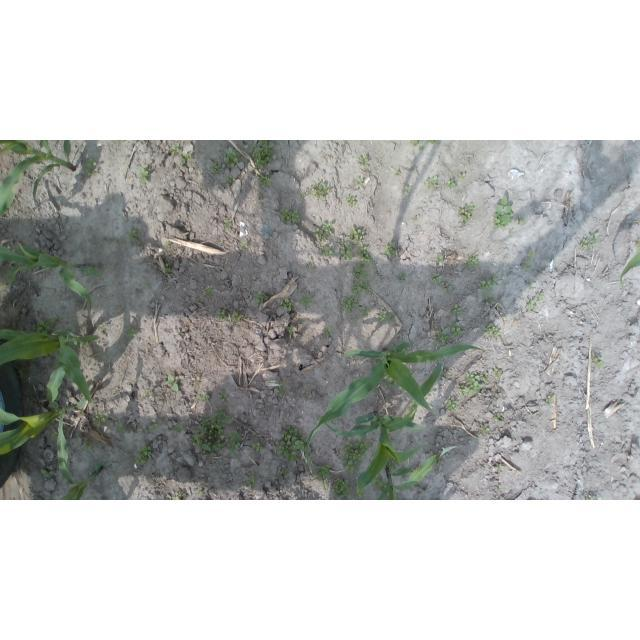Maize: (302, 342, 483, 477), (325, 361, 444, 500), (0, 327, 100, 407), (1, 238, 104, 314), (1, 140, 76, 220), (1, 399, 88, 455), (52, 406, 103, 500), (374, 445, 456, 500), (620, 250, 640, 291)
Weeds: (190, 408, 230, 452), (273, 426, 306, 463), (341, 437, 371, 476), (492, 196, 514, 231), (250, 140, 275, 169), (301, 181, 331, 200), (466, 372, 488, 395), (371, 474, 390, 499), (332, 477, 352, 500), (458, 202, 475, 226), (223, 148, 242, 169), (35, 316, 56, 334), (81, 157, 99, 178), (358, 246, 376, 266), (135, 445, 153, 465), (279, 208, 301, 224), (581, 232, 600, 250), (477, 275, 499, 290), (353, 281, 372, 298), (227, 432, 242, 453), (341, 296, 359, 313), (137, 164, 151, 185), (314, 464, 331, 481), (350, 225, 366, 243), (385, 240, 400, 258), (253, 290, 268, 308), (165, 374, 180, 392), (448, 321, 464, 337), (484, 323, 500, 339), (352, 265, 369, 280), (93, 411, 108, 428), (377, 311, 396, 324), (434, 329, 450, 344), (383, 373, 397, 389), (298, 293, 312, 309), (259, 173, 274, 187), (341, 244, 354, 260), (463, 255, 479, 268), (446, 395, 458, 412), (314, 228, 327, 243), (277, 468, 292, 481), (430, 272, 443, 286), (319, 246, 335, 257), (426, 176, 439, 189), (216, 308, 228, 322), (196, 391, 210, 403), (128, 227, 139, 242), (408, 140, 424, 150), (358, 154, 371, 166), (592, 354, 603, 368), (246, 474, 258, 486), (180, 152, 192, 164), (450, 304, 462, 316), (231, 311, 244, 322), (161, 263, 172, 276), (252, 442, 265, 453), (477, 425, 490, 436), (323, 221, 333, 235), (171, 490, 185, 500), (277, 381, 286, 396), (387, 458, 398, 470), (82, 442, 94, 453), (210, 163, 222, 174), (346, 195, 357, 207), (442, 282, 453, 294), (527, 299, 538, 311), (282, 298, 292, 311), (149, 420, 160, 431), (125, 327, 137, 337), (41, 470, 56, 478), (219, 390, 228, 403), (116, 423, 126, 434), (457, 385, 467, 396), (483, 293, 494, 303), (171, 143, 180, 155), (436, 254, 445, 266), (361, 306, 371, 316), (203, 287, 213, 297), (223, 219, 233, 229), (446, 178, 456, 188), (323, 328, 334, 337), (494, 368, 503, 379), (523, 262, 534, 271), (398, 271, 407, 281), (287, 326, 297, 335), (545, 396, 555, 405), (50, 431, 58, 442), (492, 415, 504, 422), (226, 176, 235, 185), (536, 291, 544, 301), (458, 171, 466, 181), (396, 348, 407, 355), (173, 425, 184, 432), (355, 178, 364, 186), (404, 186, 412, 195), (196, 487, 203, 497), (193, 377, 199, 388), (526, 279, 534, 287), (162, 241, 170, 249), (518, 216, 526, 224), (528, 249, 536, 257), (145, 389, 153, 396), (301, 391, 309, 398), (588, 495, 598, 500), (242, 242, 249, 249), (340, 238, 346, 246), (426, 140, 438, 144), (307, 265, 316, 270), (635, 239, 640, 248), (74, 340, 81, 346), (445, 371, 452, 377), (497, 464, 503, 471), (496, 487, 502, 494), (99, 323, 105, 330), (143, 281, 149, 288), (395, 170, 402, 176), (257, 193, 263, 199), (414, 215, 419, 221), (268, 231, 273, 236), (180, 333, 184, 338), (117, 140, 124, 142)
